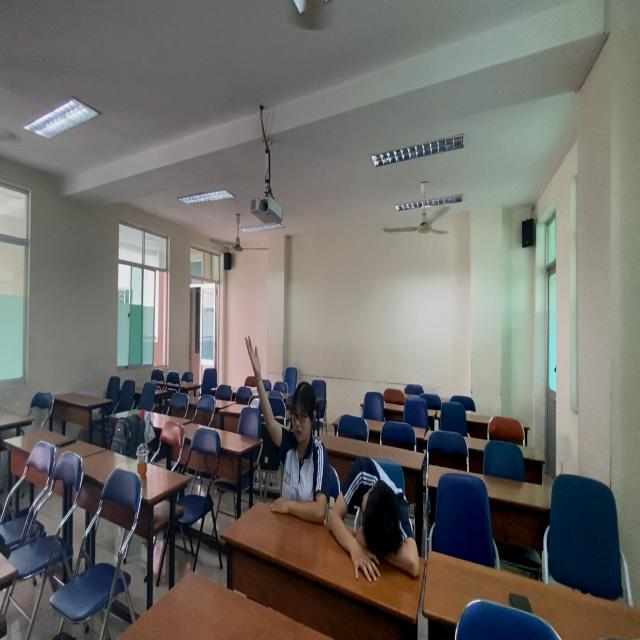raise_hand: (243, 329, 320, 511)
sleep: (323, 453, 423, 589)
